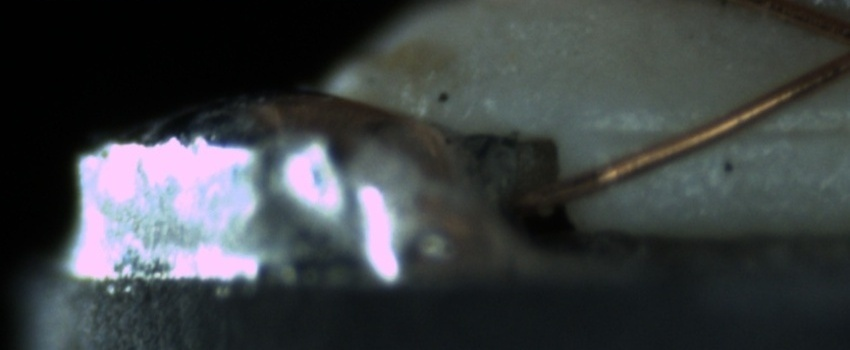CL: (808, 7, 850, 83)
DL: (604, 95, 846, 163)
